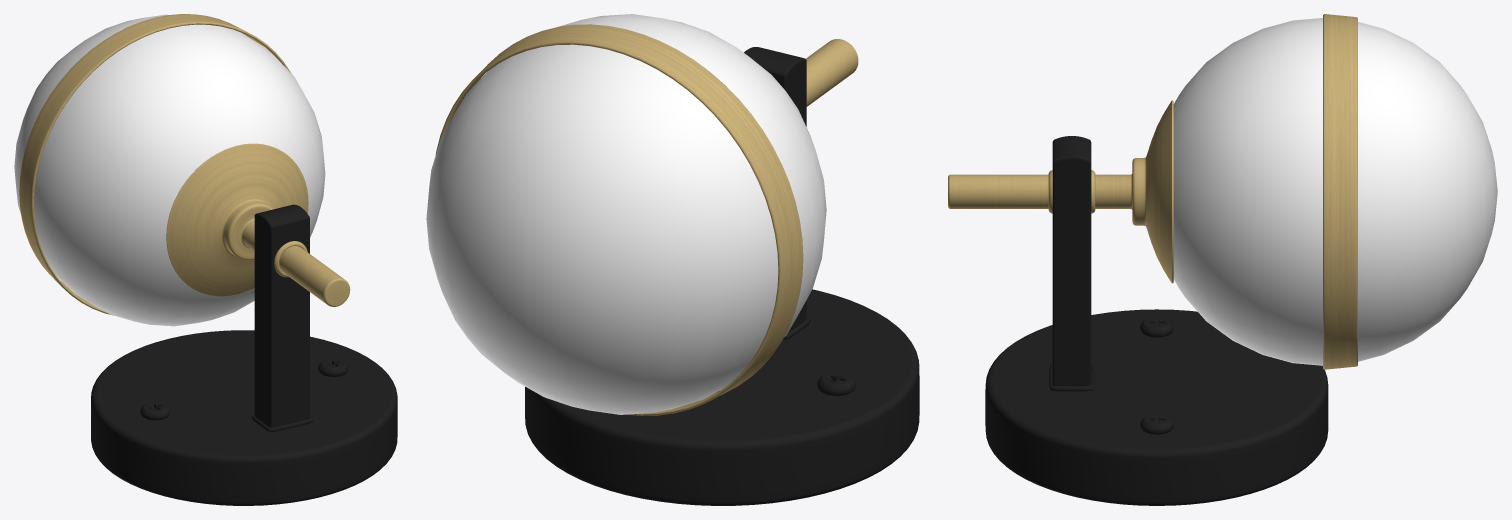
Rendered from wall-lamp.glb.
3 views of the same model, side by side, from view 1: azimuth 30°, elevation 25°; view 2: azimuth 150°, elevation 25°; view 3: azimuth 270°, elevation 25° (orthographic). The views are drawn at different scales.
Visible parts, largest first — view 1: shade, back plate, base body, arm, gold ring, Bolt; view 2: shade, back plate, gold ring, base body, arm, Bolt; view 3: shade, back plate, gold ring, arm, base body, Bolt.
Part boxes in pixels (<box>): shade: <box>14,14,325,326</box>; back plate: <box>91,330,397,505</box>; base body: <box>166,143,350,306</box>; arm: <box>254,204,309,427</box>; gold ring: <box>19,14,291,315</box>; Bolt: <box>140,358,348,420</box>; shade: <box>426,14,826,414</box>; back plate: <box>525,289,919,505</box>; gold ring: <box>435,24,803,415</box>; base body: <box>806,39,858,106</box>; arm: <box>744,47,806,331</box>; Bolt: <box>817,372,855,395</box>; shade: <box>1173,18,1497,365</box>; back plate: <box>985,309,1328,505</box>; gold ring: <box>1323,14,1357,369</box>; arm: <box>1052,136,1091,386</box>; base body: <box>948,100,1173,283</box>; Bolt: <box>1140,317,1173,434</box>.
Bounding box in the file's own units: 0.1139 × 0.1431 × 0.1758.
Materials: 4 (2 with a texture image).
